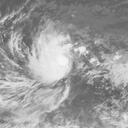cyclone: (32, 35, 72, 80)
